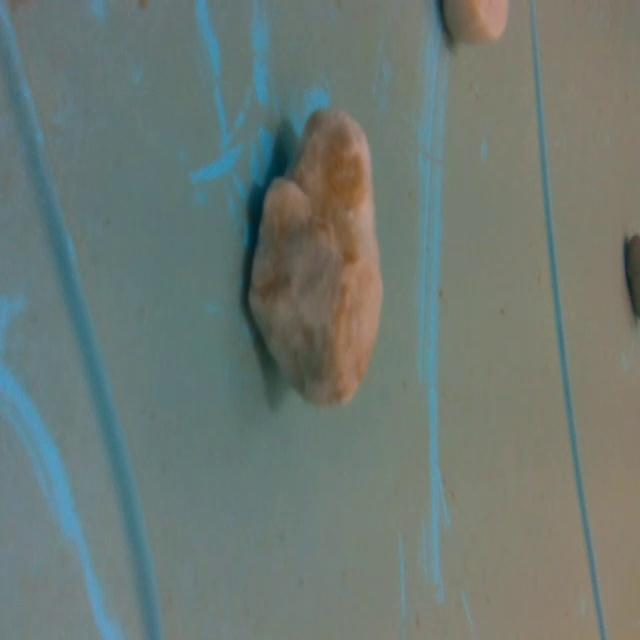rock: (232, 99, 397, 417)
